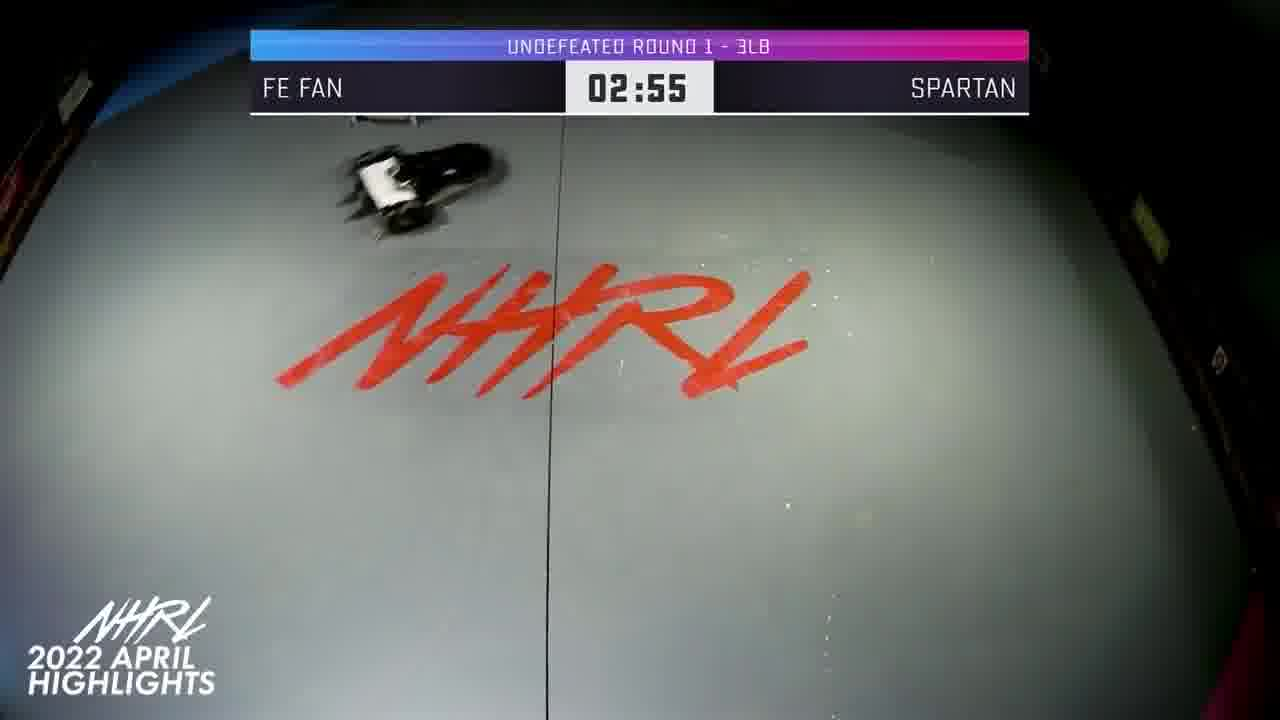combatbot: (332, 143, 512, 241)
